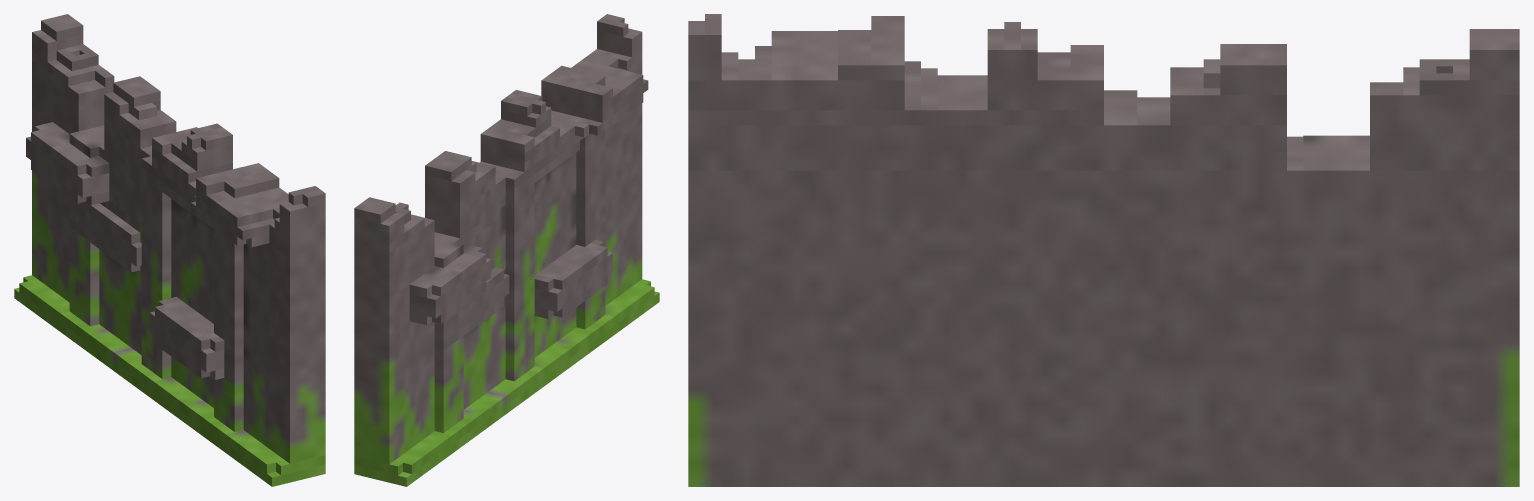
The model's file is Ruin_Wall_1_damaged_state_01.fbx.
The picture shows the model from 3 angles, left to right: view 1: azimuth 30°, elevation 25°; view 2: azimuth 150°, elevation 25°; view 3: azimuth 270°, elevation 25°; orthographic projection. The views are drawn at different scales.
Parts seen in each view (by area): view 1: Ruin_Wall_1_damaged_state_01; view 2: Ruin_Wall_1_damaged_state_01; view 3: Ruin_Wall_1_damaged_state_01.
Boxes of the visible parts, bbox=[...] form: Ruin_Wall_1_damaged_state_01: bbox=[14, 14, 325, 486]; Ruin_Wall_1_damaged_state_01: bbox=[354, 14, 659, 486]; Ruin_Wall_1_damaged_state_01: bbox=[688, 14, 1519, 486].
Size of the model in its own units: 7 by 30 by 50.
Materials: 1 (1 with a texture image).
